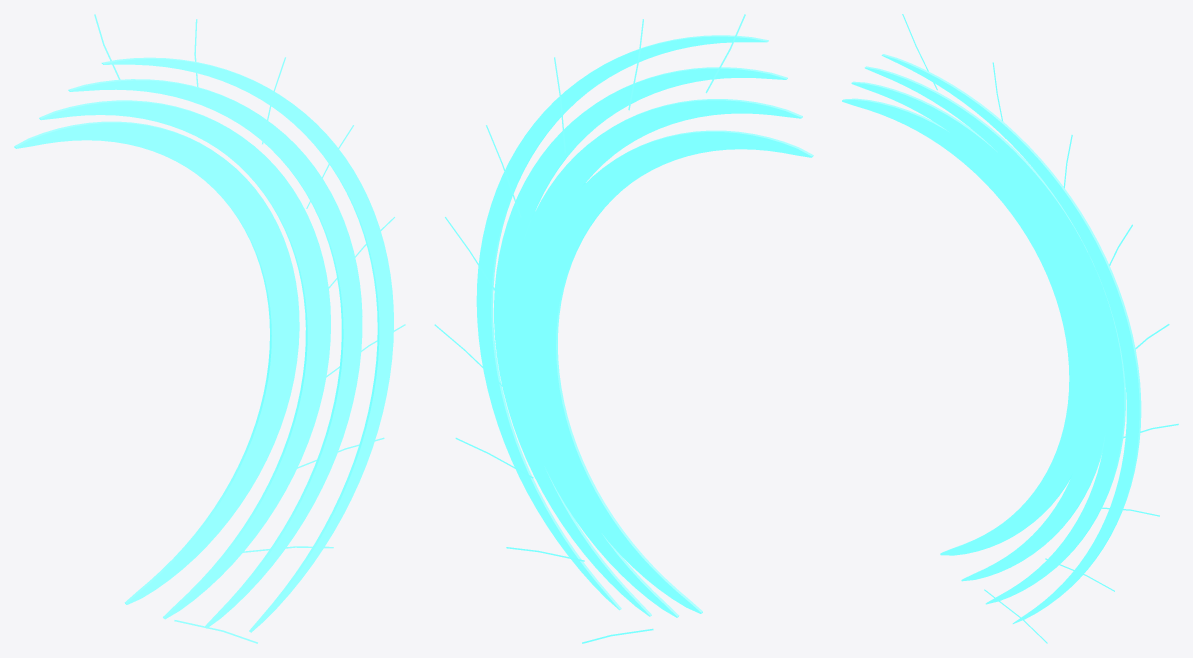
Rendered from aerial-crescent.glb.
3 views of the same model, side by side, from view 1: azimuth 30°, elevation 25°; view 2: azimuth 150°, elevation 25°; view 3: azimuth 330°, elevation 25° (orthographic). The views are drawn at different scales.
Visible parts, largest first — view 1: aerial-crescent_energy; view 2: aerial-crescent_energy; view 3: aerial-crescent_energy.
Part boxes in pixels (x1,y1,x2,y2): aerial-crescent_energy: [14, 14, 405, 643]; aerial-crescent_energy: [434, 14, 813, 643]; aerial-crescent_energy: [842, 14, 1178, 643].
Size of the model in its own units: 2.17 by 3.62 by 0.228.
